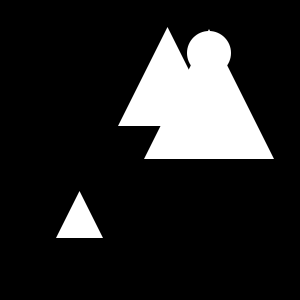rectangle: (162, 74, 238, 152), (187, 31, 231, 75)
triangle: (144, 29, 274, 159), (118, 27, 217, 126), (56, 191, 103, 238)
